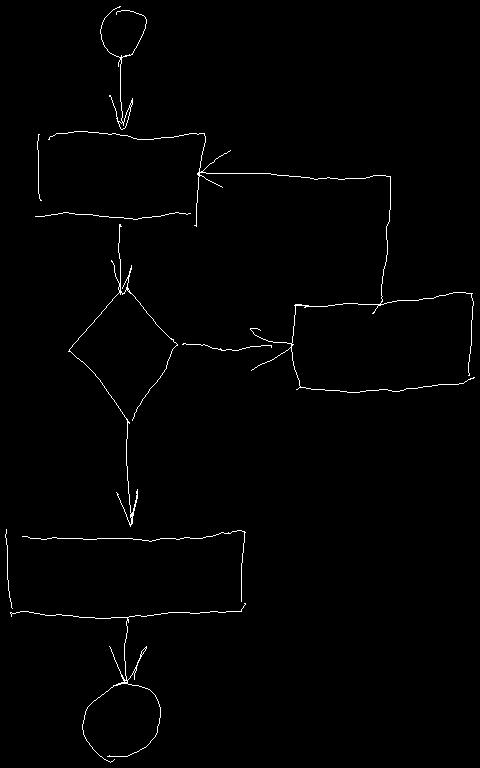arrow: (197, 150, 390, 313), (182, 328, 293, 370), (109, 617, 146, 682), (116, 420, 137, 526), (109, 55, 132, 129), (111, 224, 131, 294)
connection: (82, 682, 160, 762), (100, 6, 146, 57)
decision: (68, 287, 177, 422)
process: (5, 529, 245, 618), (291, 292, 474, 392), (35, 131, 205, 226)
